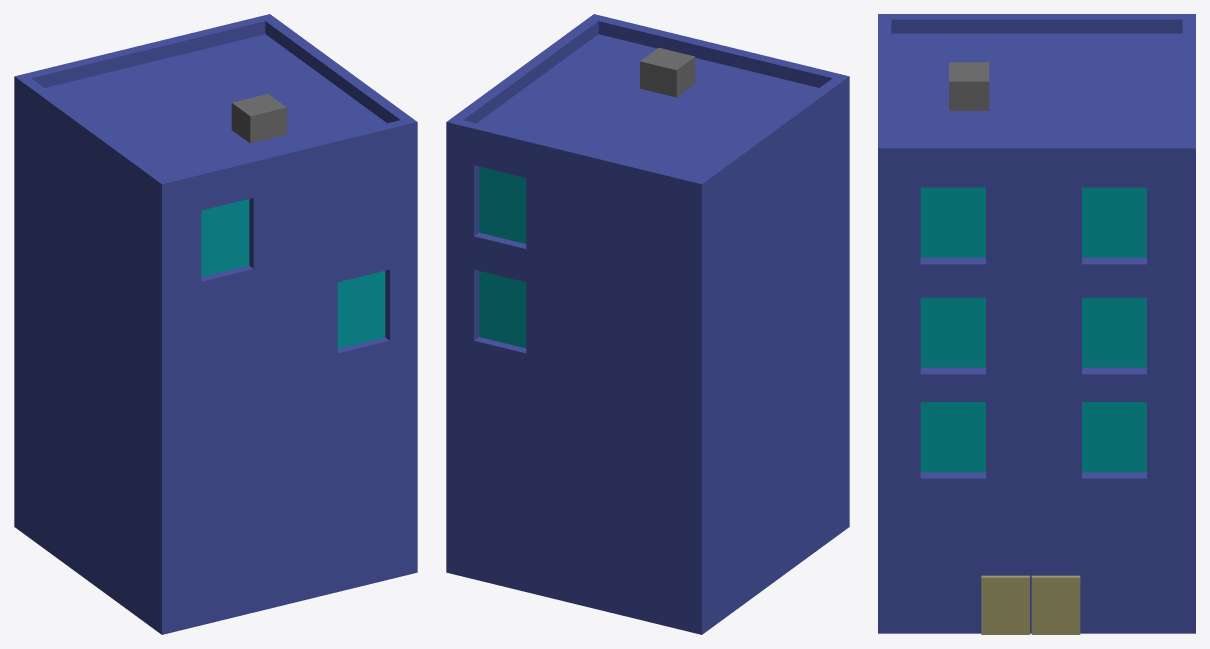
File: House1.fbx
3 renders of one model, left to right at view 1: azimuth 30°, elevation 25°; view 2: azimuth 150°, elevation 25°; view 3: azimuth 270°, elevation 25°, orthographic. The views are drawn at different scales.
Parts seen in each view (by area): view 1: House1; view 2: House1; view 3: House1.
Boxes of the visible parts, x1,y1,x2,y2 form: House1: (14, 14, 417, 634); House1: (446, 14, 849, 634); House1: (878, 14, 1195, 634).
Size of the model in its own units: 1.72 by 2.95 by 1.7.
